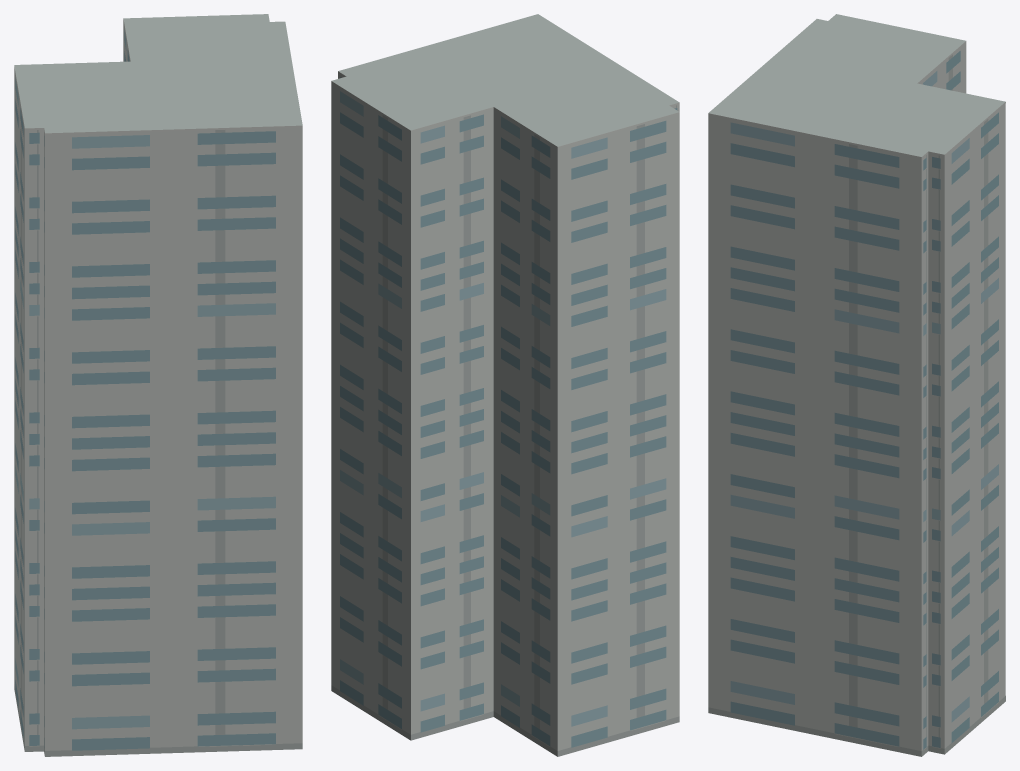
File: residential-9fa22fb0-ba82-4e8f-bfbe-66be8e33bdd8.glb
The picture shows the model from 3 angles, left to right: view 1: azimuth 30°, elevation 25°; view 2: azimuth 150°, elevation 25°; view 3: azimuth 270°, elevation 25°; orthographic projection. The views are drawn at different scales.
Visible parts, largest first — view 1: residential-9fa22fb0-ba82-4e8f-bfbe-66be8e33bdd8.tmp; view 2: residential-9fa22fb0-ba82-4e8f-bfbe-66be8e33bdd8.tmp; view 3: residential-9fa22fb0-ba82-4e8f-bfbe-66be8e33bdd8.tmp.
Boxes of the visible parts, box(x1,y1,x2,y2) form: residential-9fa22fb0-ba82-4e8f-bfbe-66be8e33bdd8.tmp: box(14, 14, 302, 756); residential-9fa22fb0-ba82-4e8f-bfbe-66be8e33bdd8.tmp: box(331, 14, 679, 756); residential-9fa22fb0-ba82-4e8f-bfbe-66be8e33bdd8.tmp: box(708, 14, 1005, 756).
Bounding box in the file's own units: 41.46 × 81 × 36.43.
